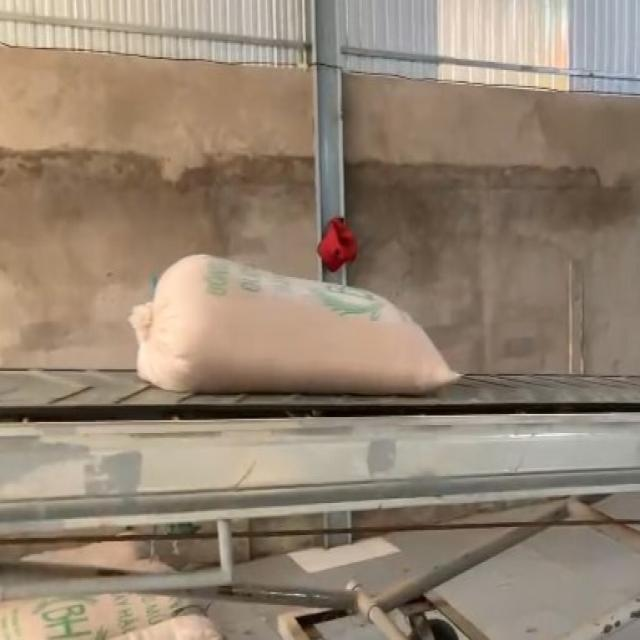gunny_bag: (130, 255, 457, 394)
